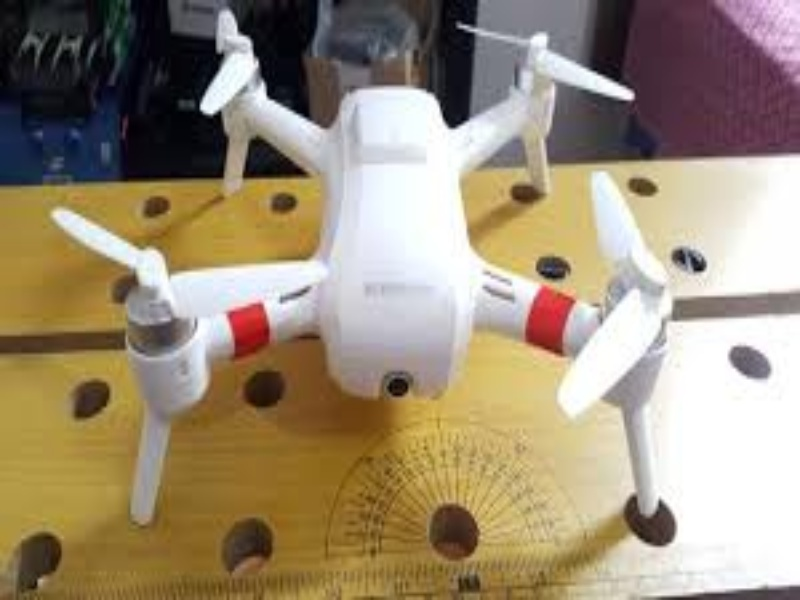drone: (67, 14, 677, 522)
